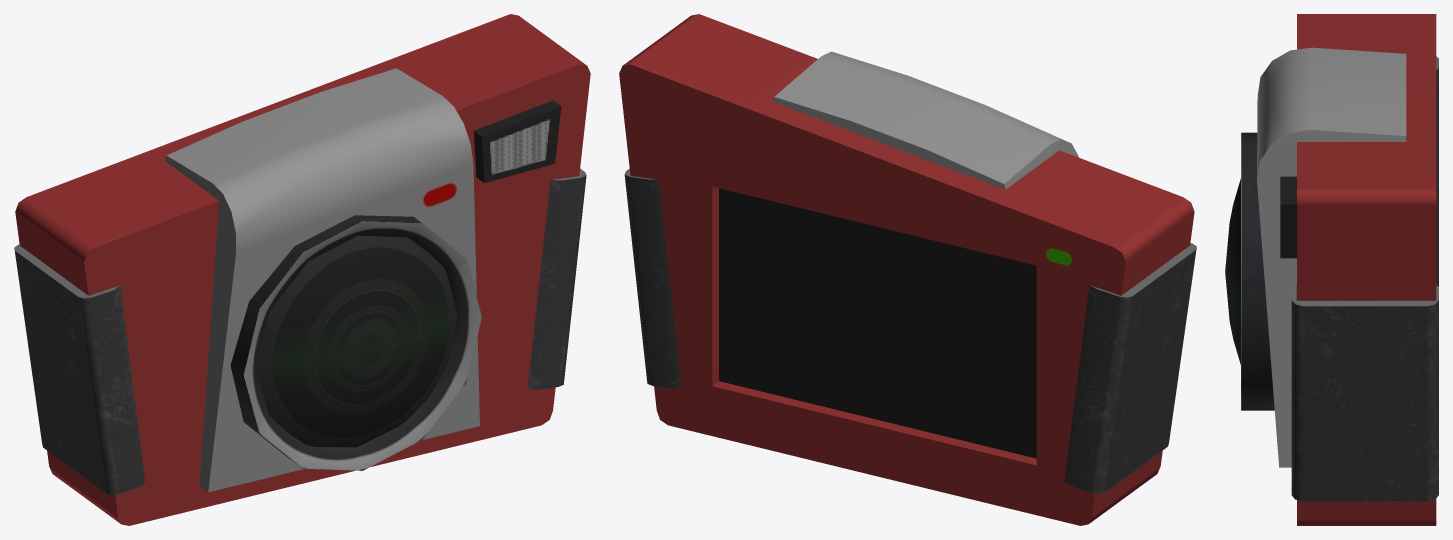
Rendered from camera_tool.glb.
3 renders of one model, left to right at view 1: azimuth 30°, elevation 25°; view 2: azimuth 150°, elevation 25°; view 3: azimuth 270°, elevation 25°, orthographic.
Visible parts, largest first — view 1: CameraPointShoot; view 2: CameraPointShoot; view 3: CameraPointShoot.
Part boxes in pixels (x1,y1,x2,y2): CameraPointShoot: [14, 14, 590, 525]; CameraPointShoot: [619, 14, 1196, 525]; CameraPointShoot: [1225, 14, 1438, 525].
Bounding box in the file's own units: 0.2139 × 0.1409 × 0.0766.
1 material, 1 textured.
